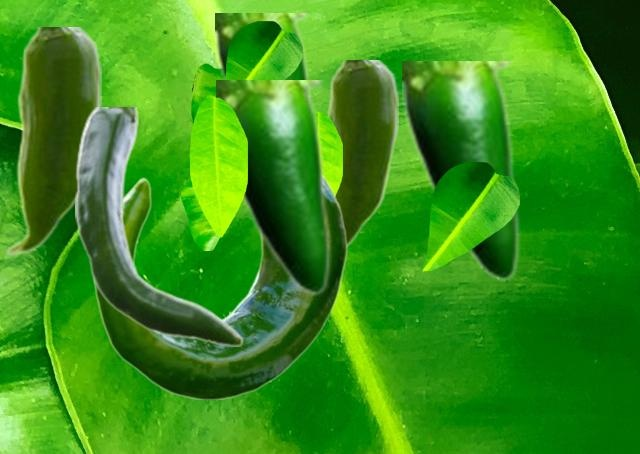green_chili: (93, 175, 347, 398), (75, 107, 243, 345), (402, 61, 519, 281), (216, 80, 330, 295), (4, 27, 100, 256), (324, 60, 397, 249), (215, 13, 314, 99)
